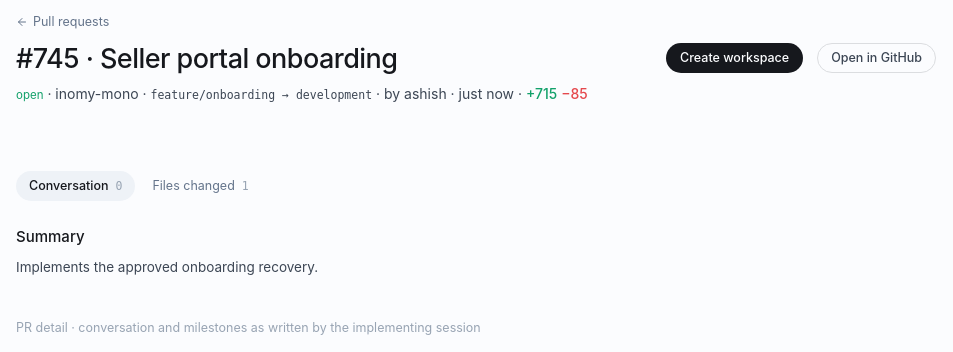
PullRequestDetailPage V8 › renders prototype metadata and the compact files view
Expected: the heading "#745 · Seller portal onboarding" is shown, [16,42,398,75]
Expected: the text "Implements the approved onboarding recovery." is shown, [16,259,318,275]
Click the button "Files changed 1". click: coordinates (201, 186)
box: [139,171,262,201]
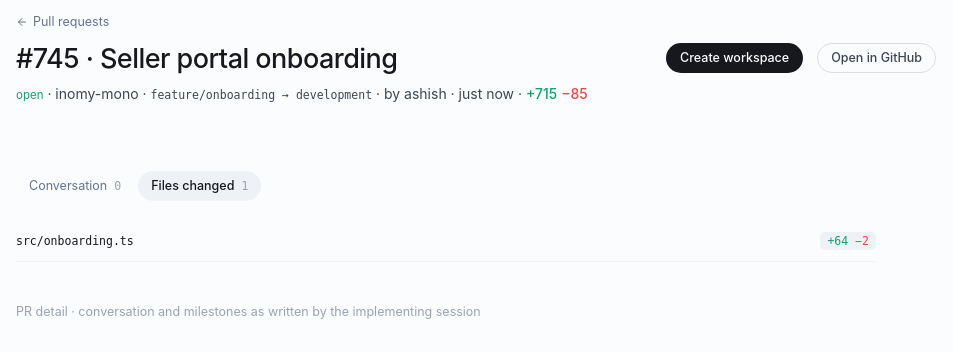
Expected: the text "src/onboarding.ts" is shown, [16,234,134,248]
Expected: the text "+64" is shown, [827,234,848,248]
